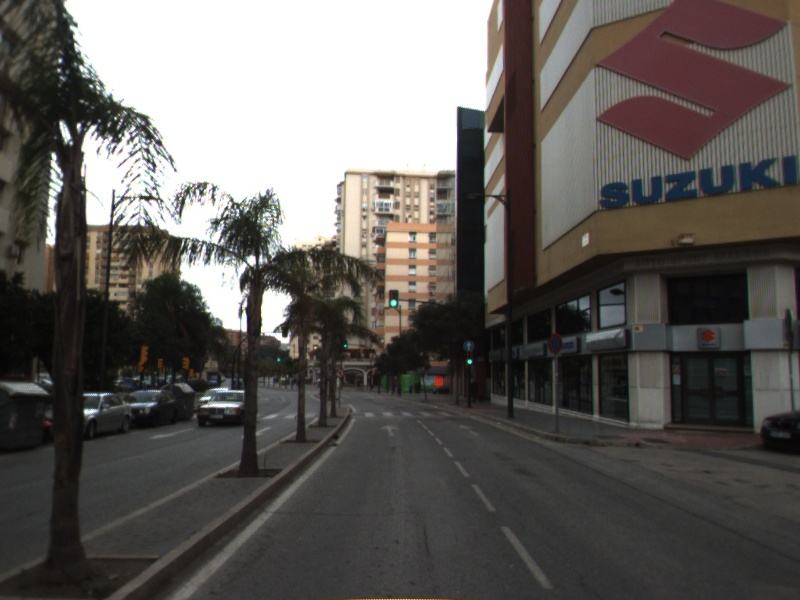STRAIGHT: (457, 423, 481, 438), (378, 423, 400, 438)
